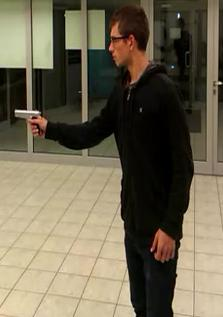pistol: (12, 107, 43, 138)
